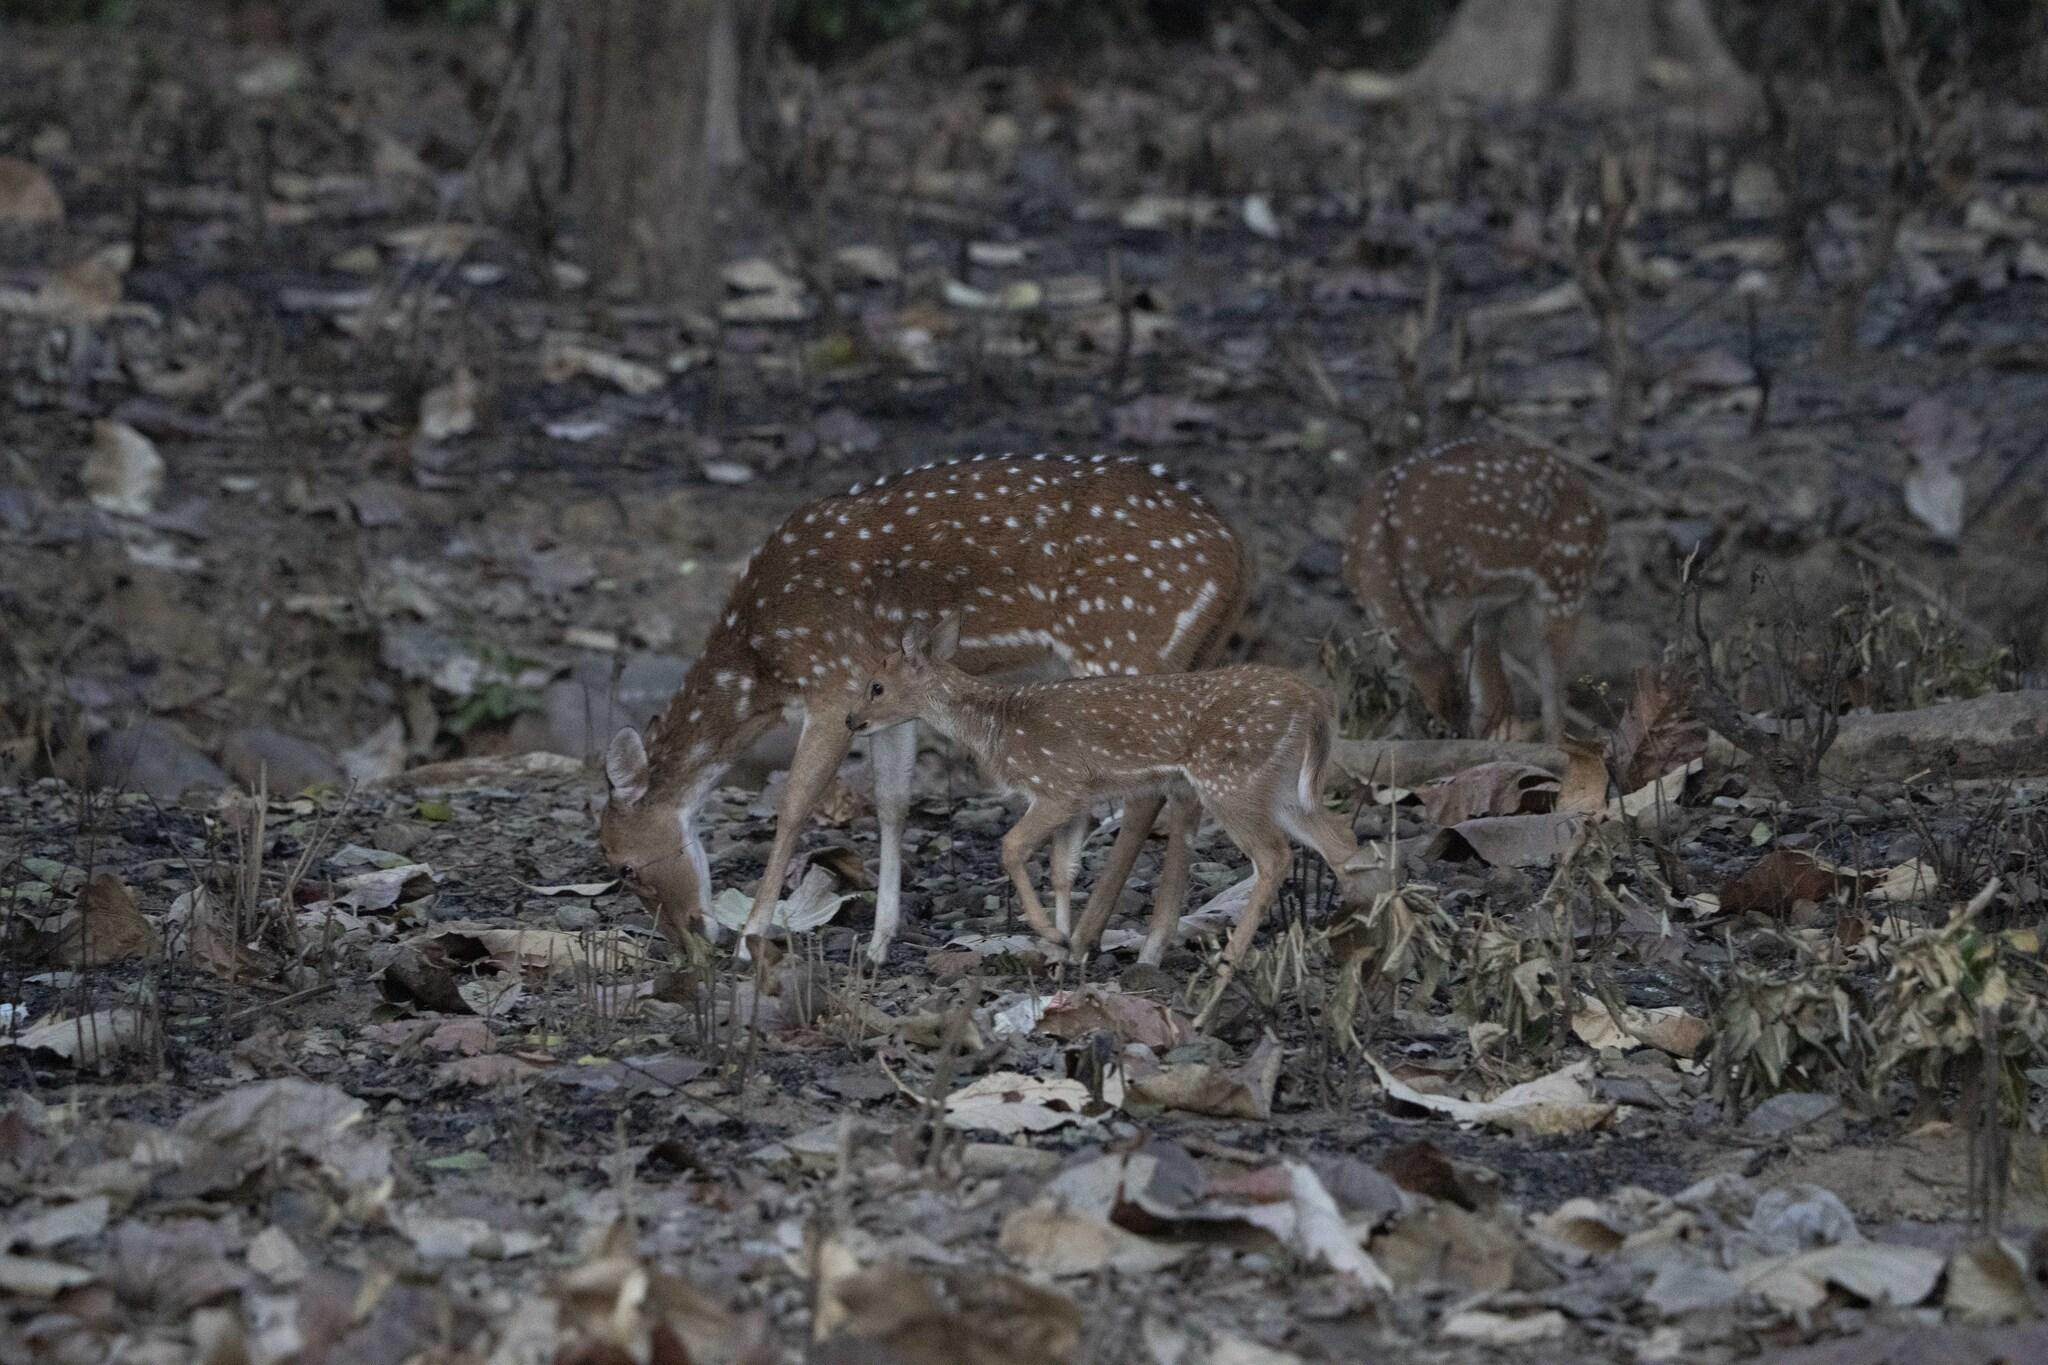Deer: (601, 454, 1249, 966), (848, 634, 1357, 963), (1345, 440, 1606, 740)
